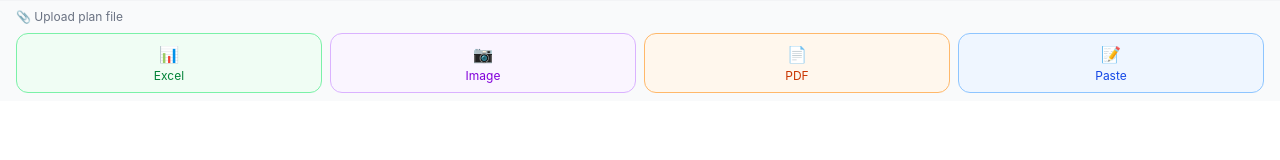
Test: UploadBar › renders upload options with English labels
Expected: the text "📎 Upload plan file" is shown, [16,9,123,25]
What coordinates should you click on to do the following:
click the button with aria-label "Upload Paste"
I would click on:
 (1111, 63)
Its box is [958,33,1264,93].
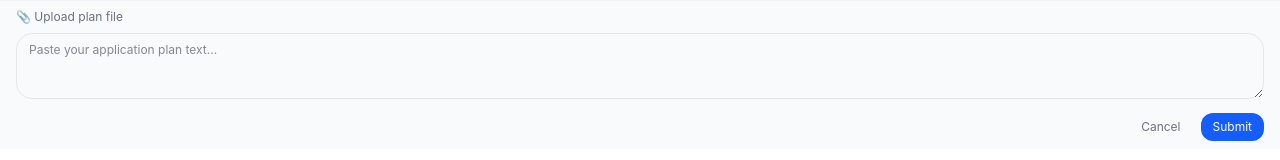
Now the text box with placeholder "Paste your application plan text..." is shown, box [16,33,1264,99]
Now the button "Cancel" is shown, box [1129,113,1192,141]
